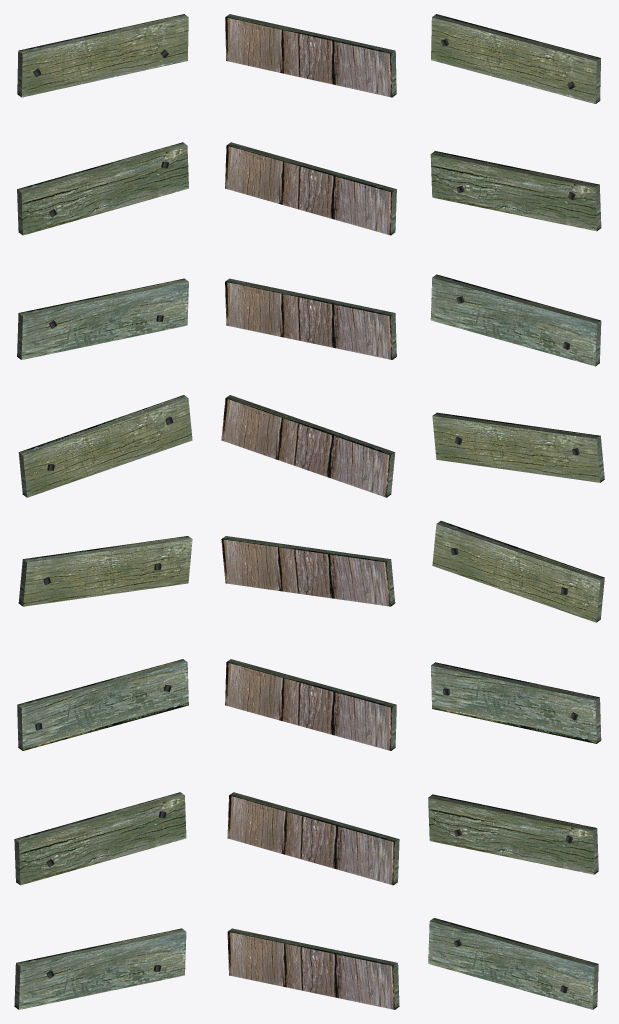
Rendered from mexlladder1.fbx.
3 renders of one model, left to right at view 1: azimuth 30°, elevation 25°; view 2: azimuth 150°, elevation 25°; view 3: azimuth 330°, elevation 25°, orthographic.
Visible parts, largest first — view 1: mexlladder1; view 2: mexlladder1; view 3: mexlladder1.
Boxes of the visible parts, x1,y1,x2,y2 form: mexlladder1: [14, 14, 192, 1009]; mexlladder1: [221, 14, 399, 1009]; mexlladder1: [428, 14, 604, 1009].
Size of the model in its own units: 6691 by 35381 by 400.
